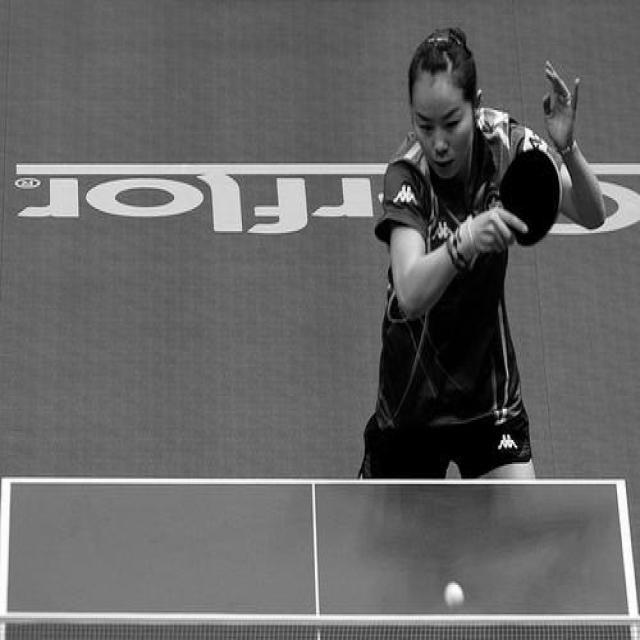ping-pong-ball: (445, 580, 465, 611)
